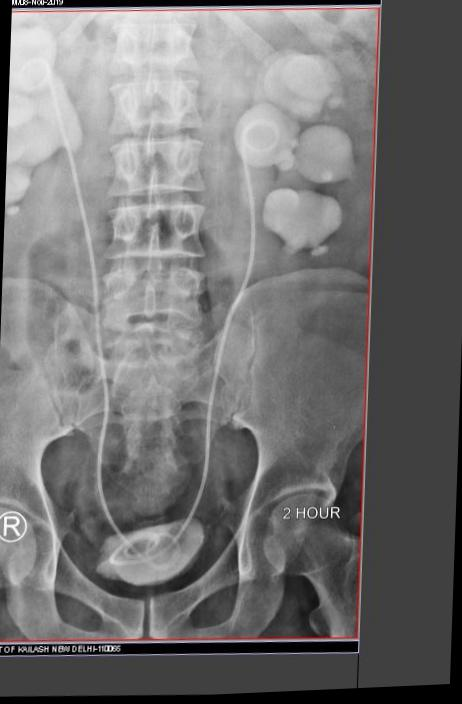bladder: (122, 543, 276, 631)
vertebrae: (140, 0, 257, 64)
